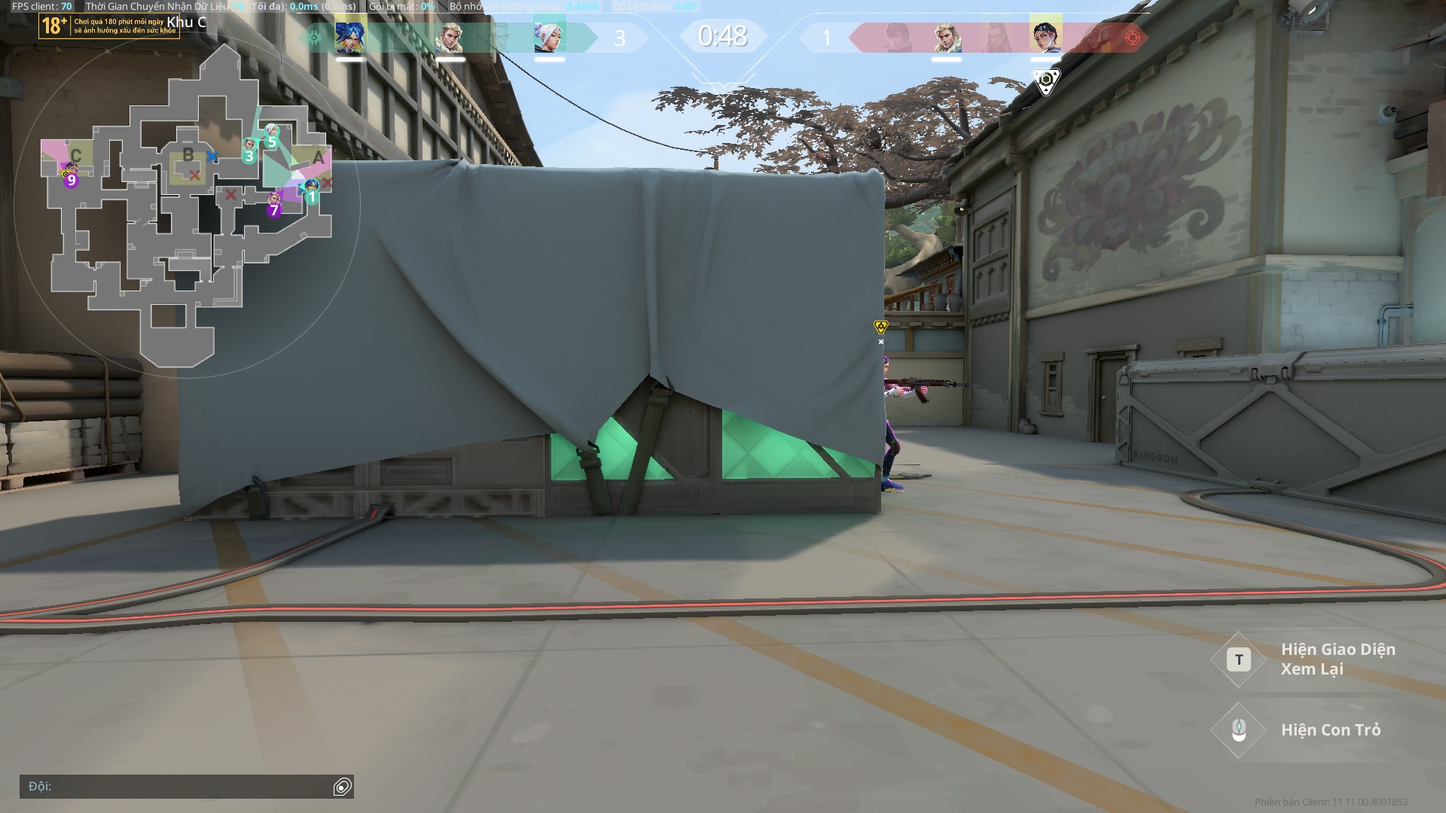body: (883, 375, 888, 398)
head: (883, 353, 889, 374)
